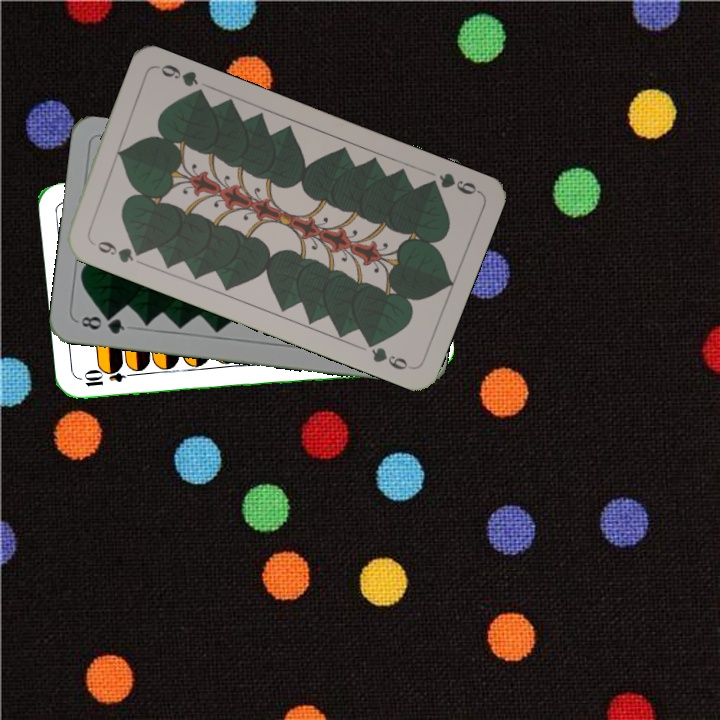E10: (79, 366, 139, 389)
G8: (77, 311, 128, 337)
G9: (421, 168, 482, 198), (86, 236, 146, 266)
